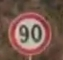limite 90: (7, 10, 54, 56)
